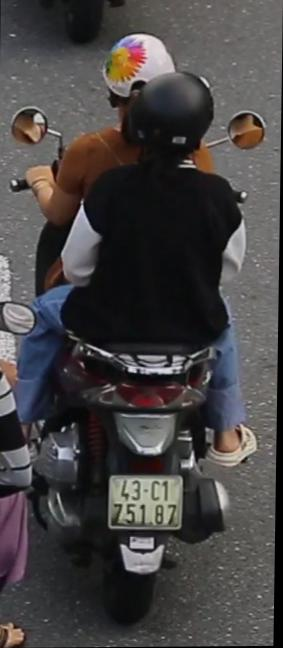LP: (104, 465, 188, 543)
helmet: (133, 69, 219, 156), (98, 26, 176, 99)
